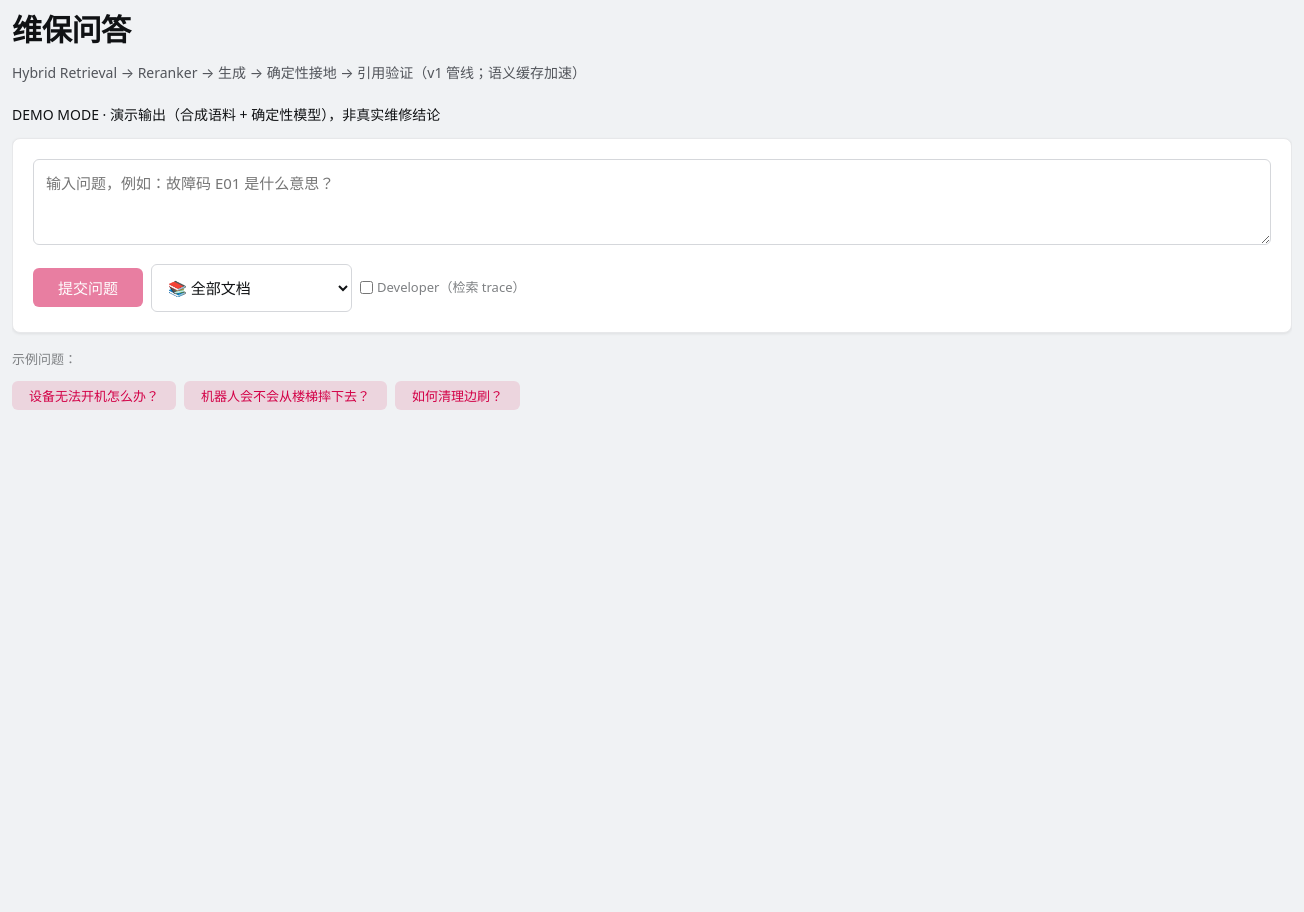
Test: QAPanel › renders answer, citations, grounding badge and DEMO banner
Type "故障码 E01 是什么意思" into the text box with placeholder "输入问题，例如：故障码 E01 是什么意思？".
click(652, 202); type("故障码 E01 是什么意思")  # box [33,159,1271,245]
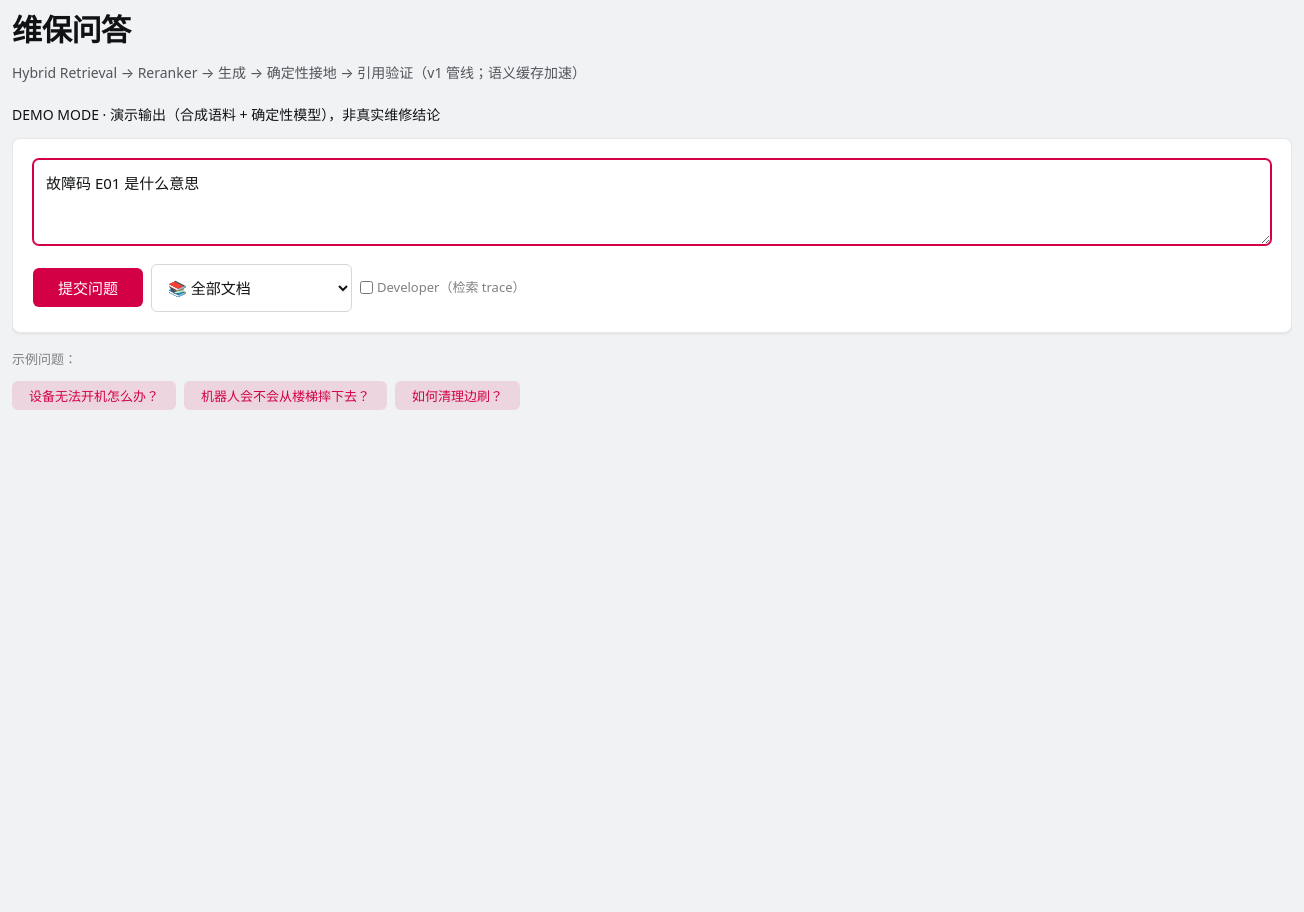
Click the button "提交问题".
click(88, 288)  # box [33,268,143,307]
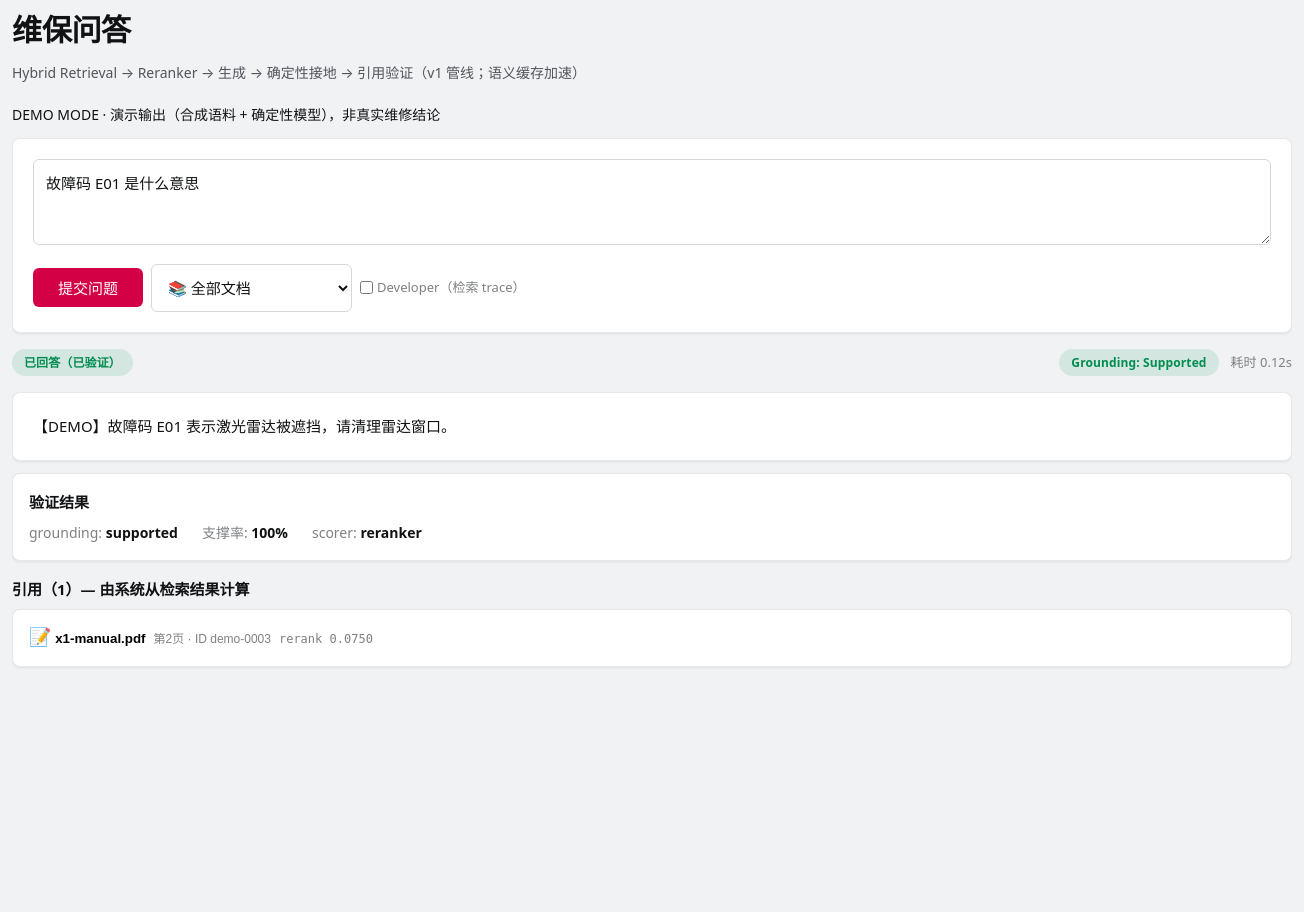
Now the text "【DEMO】故障码 E01 表示激光雷达被遮挡，请清理雷达窗口。" is shown, box [12,392,1292,461]
Now the text "引用（1）— 由系统从检索结果计算" is shown, box [12,579,250,599]
Now the text "x1-manual.pdf" is shown, box [55,631,146,646]
